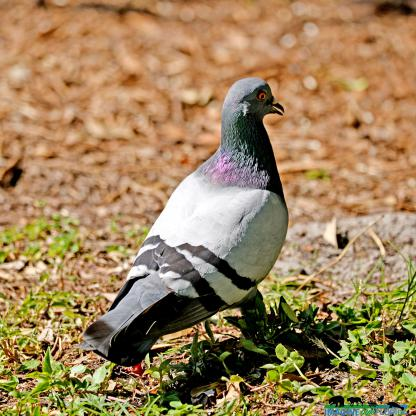Rock Pigeon: (74, 77, 289, 364)
